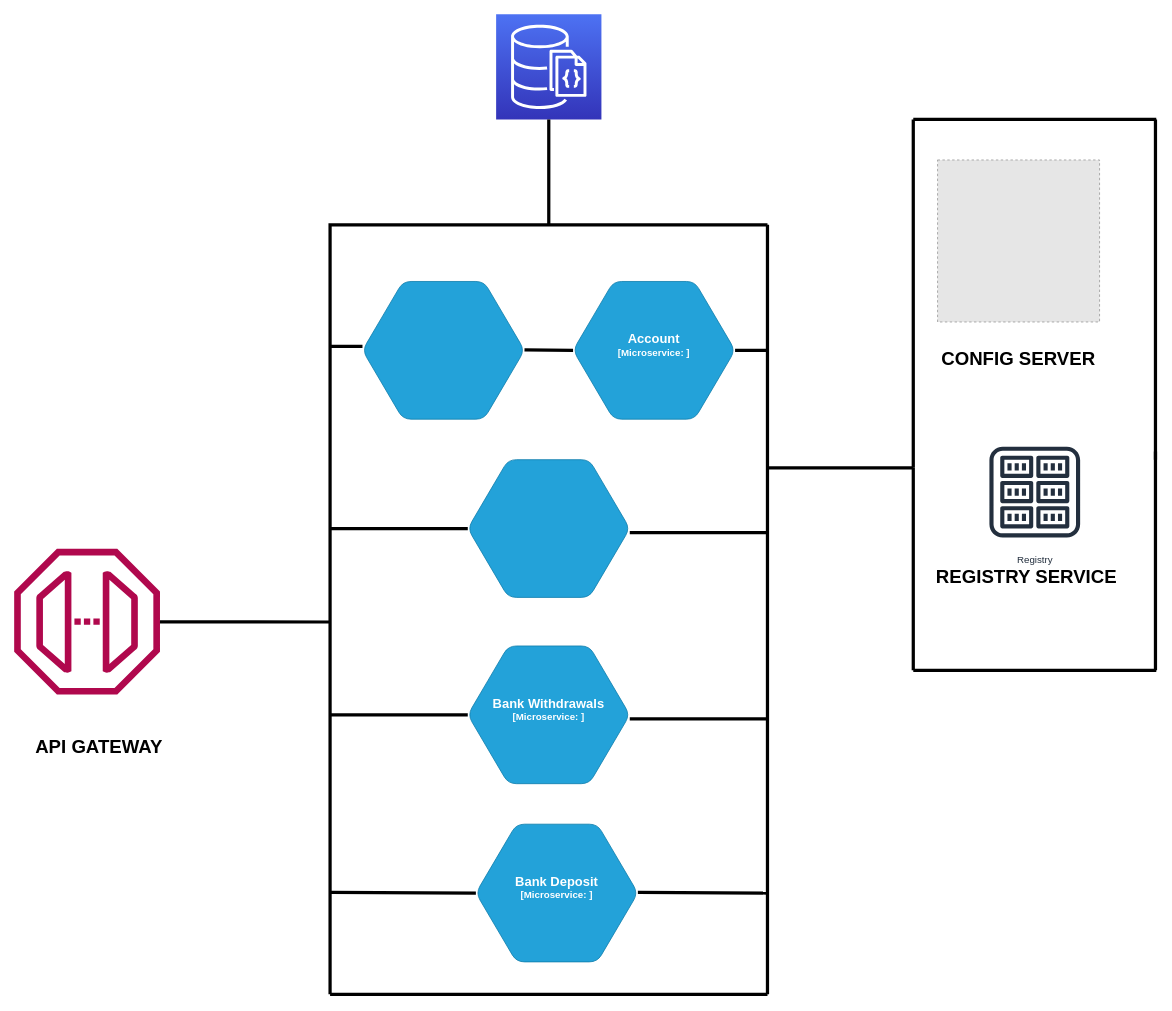
Some shapes in this 1172 by 1011 pixel diagram are drawn without their labels. Grey dashed boxes stand in for pictures. Each missing label, with the box of its shape:
Customers [Microservice: ]: (362, 281, 524, 419)
Movimientos [Microservice: ]: (467, 459, 630, 597)
